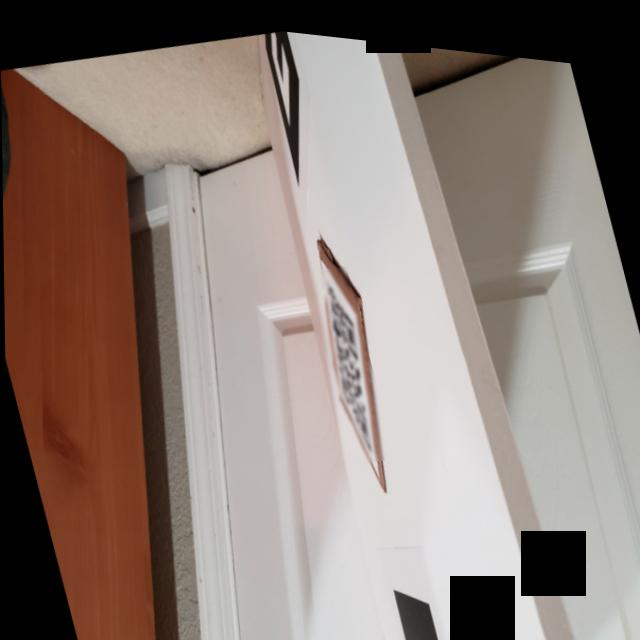QR_CODE: (303, 254, 394, 460)
